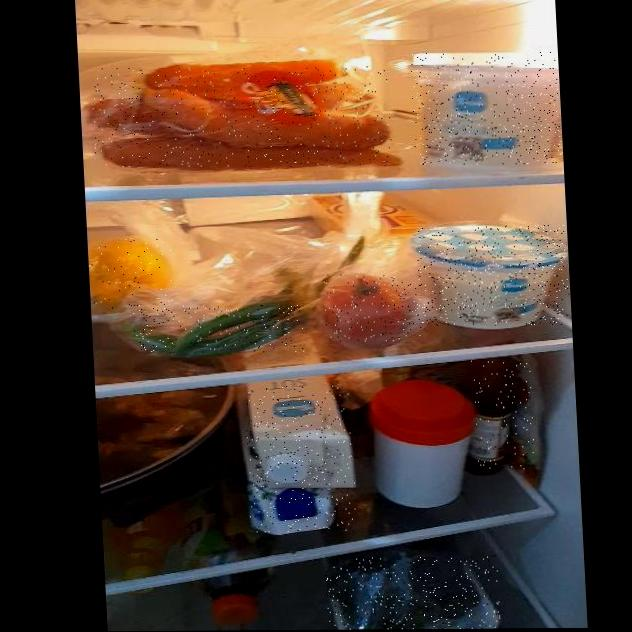broccoli: (325, 557, 501, 630)
carrot: (90, 66, 393, 168)
green chilies: (131, 304, 304, 353)
lemon: (87, 237, 174, 308)
milk: (243, 386, 358, 532)
sauce: (471, 360, 535, 471)
tomato: (323, 274, 422, 342)
yoghurt: (410, 52, 563, 165), (416, 225, 571, 326)
